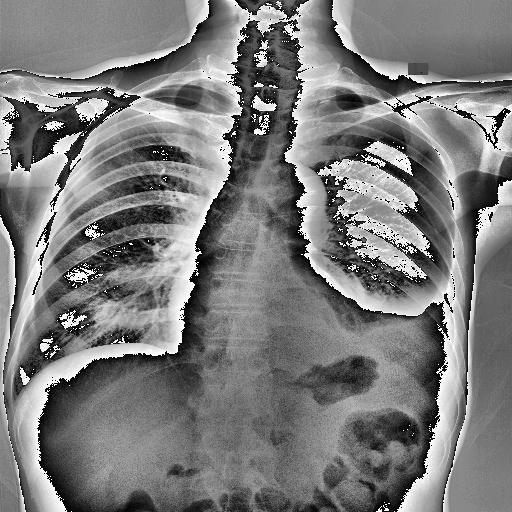0- Aortic enlargement: (268, 162, 328, 240)
10- Pleural effusion: (324, 274, 456, 382), (368, 266, 456, 404), (364, 278, 458, 362)
